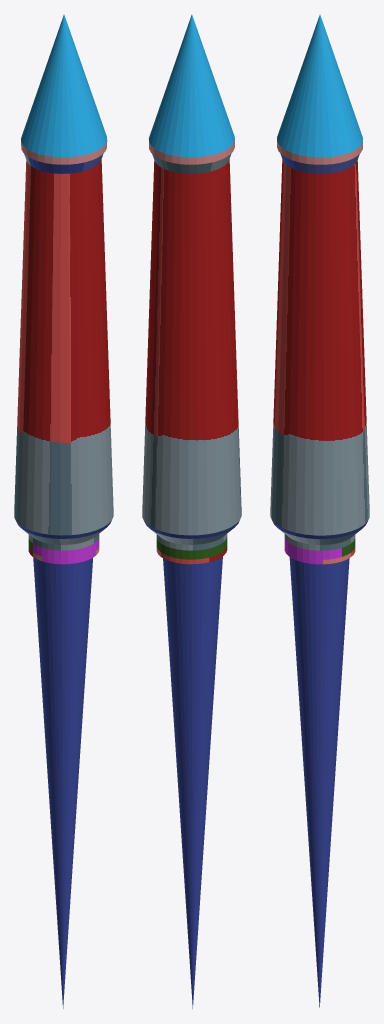
The model's file is rocket.glb.
3 renders of one model, left to right at view 1: azimuth 30°, elevation 25°; view 2: azimuth 210°, elevation 25°; view 3: azimuth 330°, elevation 25°, orthographic.
Parts seen in each view (by area): view 1: Cone; view 2: Cone; view 3: Cone.
Part boxes in pixels (x1,y1,x2,y2): Cone: (14,14,113,1008); Cone: (142,14,241,1008); Cone: (270,14,369,1007).
Size of the model in its own units: 1.99 by 21.82 by 1.95.
Materials: 1 (1 with a texture image).
